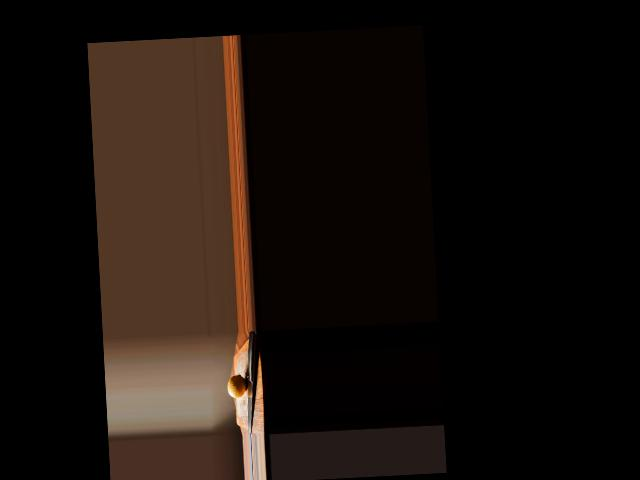lemon: (225, 372, 246, 399)
